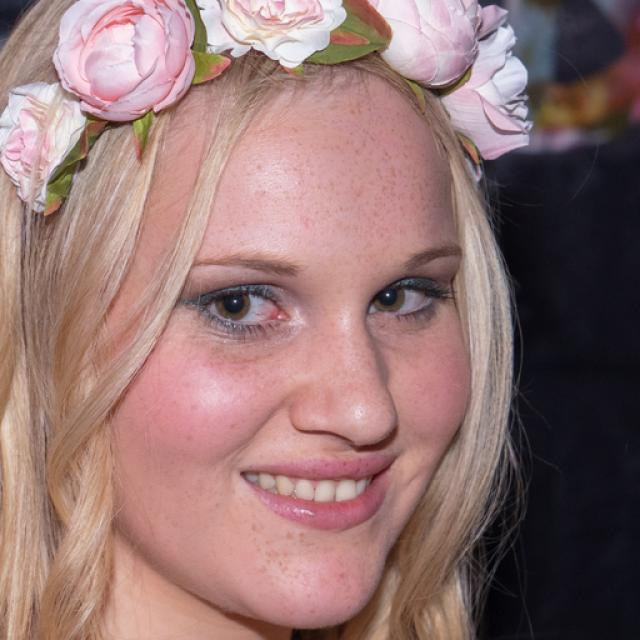happy: (110, 81, 478, 625)
